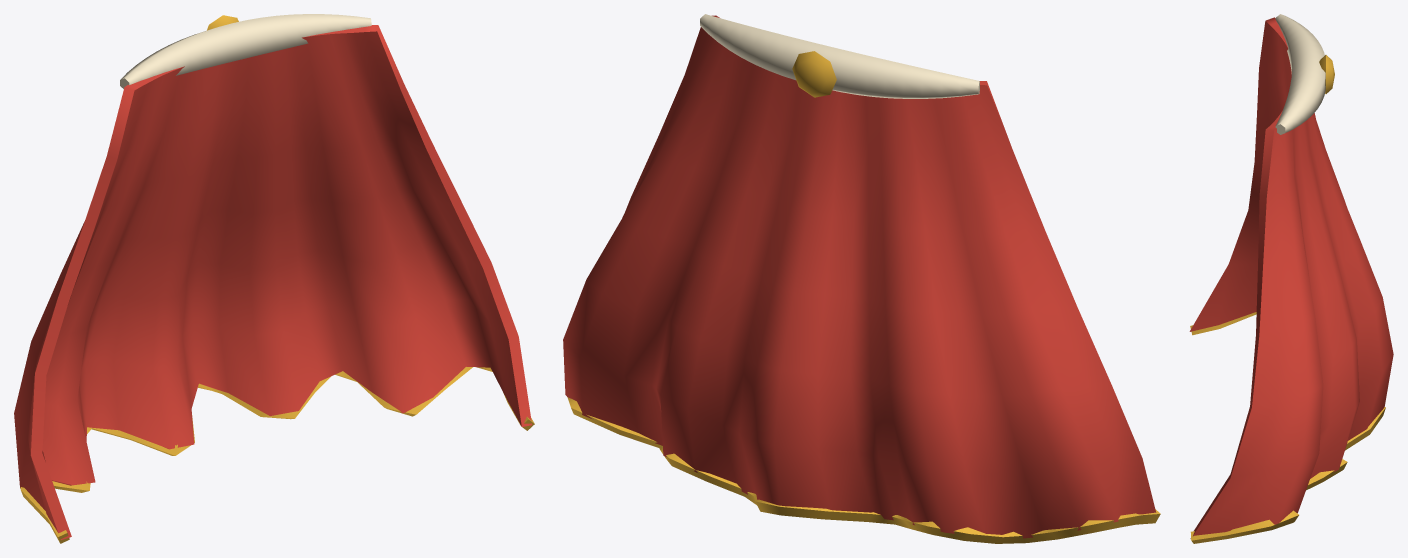
File: back_cape.glb
3 renders of one model, left to right at view 1: azimuth 30°, elevation 25°; view 2: azimuth 150°, elevation 25°; view 3: azimuth 270°, elevation 25°, orthographic. The views are drawn at different scales.
Parts seen in each view (by area): view 1: Cloth, Collar, Trim; view 2: Cloth, Collar, Trim; view 3: Cloth, Collar, Trim.
Boxes of the visible parts, x1,y1,x2,y2 form: Cloth: (14, 25, 531, 539); Collar: (120, 14, 371, 88); Trim: (20, 15, 534, 543); Cloth: (563, 15, 1156, 538); Collar: (700, 14, 979, 98); Trim: (567, 51, 1160, 543); Cloth: (1189, 17, 1393, 538); Collar: (1275, 14, 1325, 134); Trim: (1190, 55, 1385, 543).
Bounding box in the file's own units: 0.6936 × 0.5608 × 0.2698.
